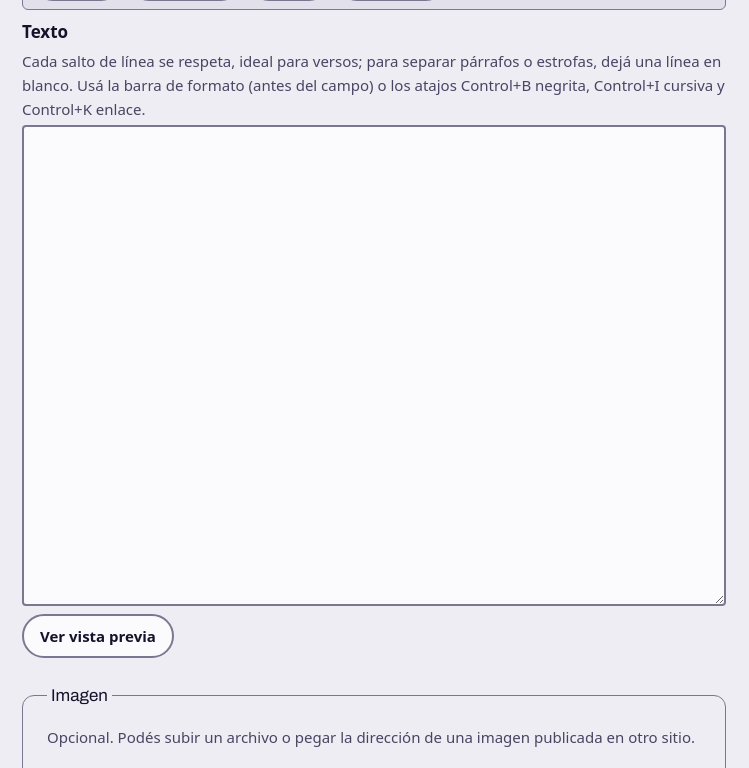
Barra de formato en el formulario › Título de sección convierte la línea actual
(page scrolled)
Step 1. Type "Primera parte" into the text box labelled "Texto" → (374, 366), box [22,125,726,606]
(page scrolled)
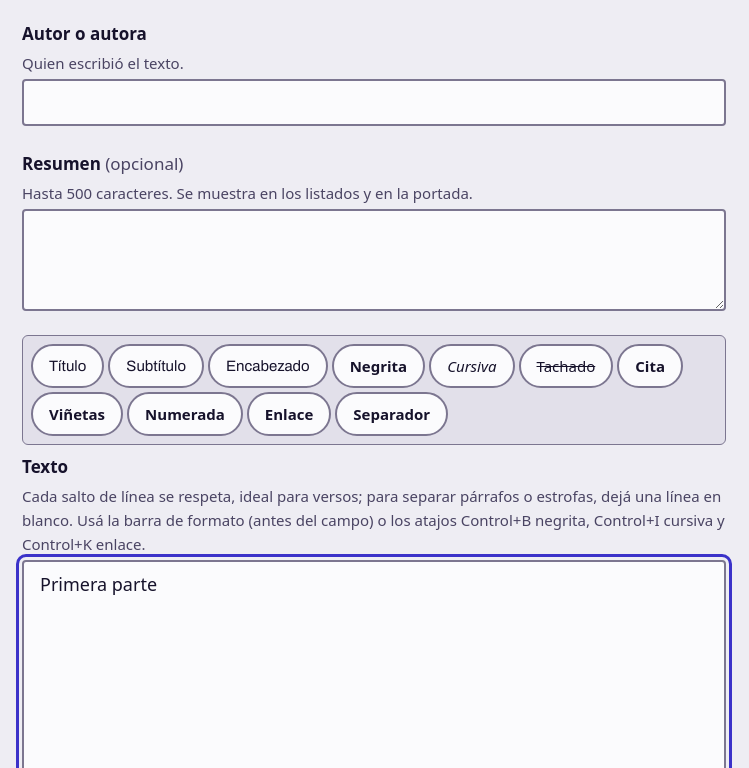
Step 2. Click the button named "Título de sección" → (68, 366), box [31,344,104,388]
(page scrolled)
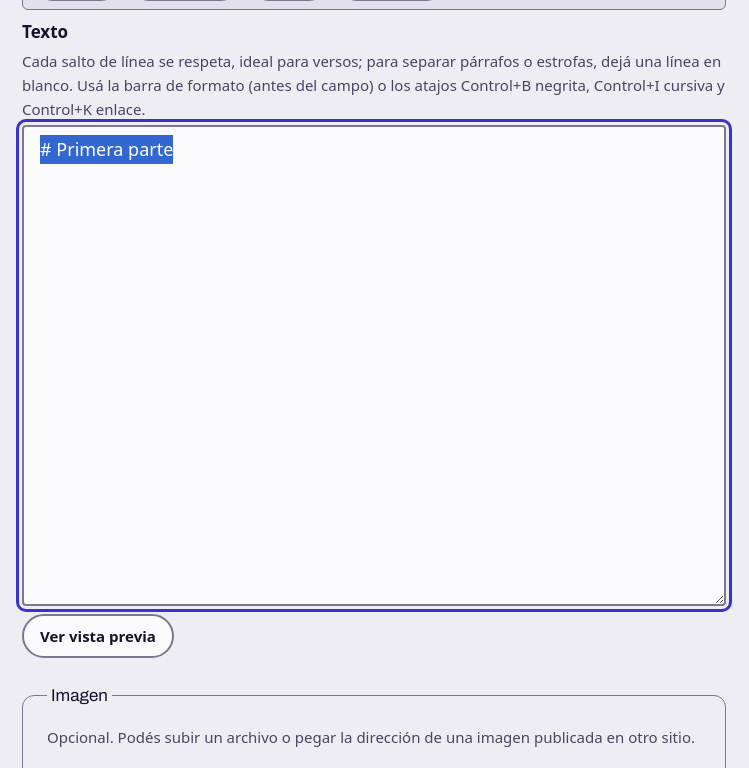
Check: the text box labelled "Texto" holds "# Primera parte", box [22,125,726,606]
